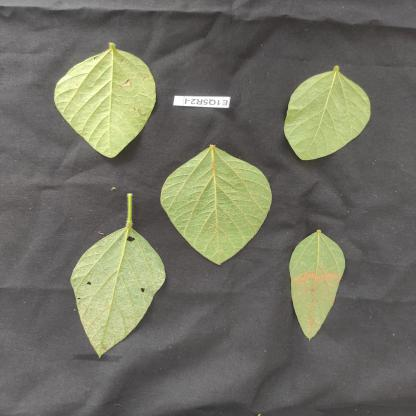label: (172, 84, 238, 116)
leaflets: (64, 209, 180, 356), (40, 35, 156, 163), (160, 140, 272, 270), (283, 68, 390, 162), (282, 208, 352, 336)
